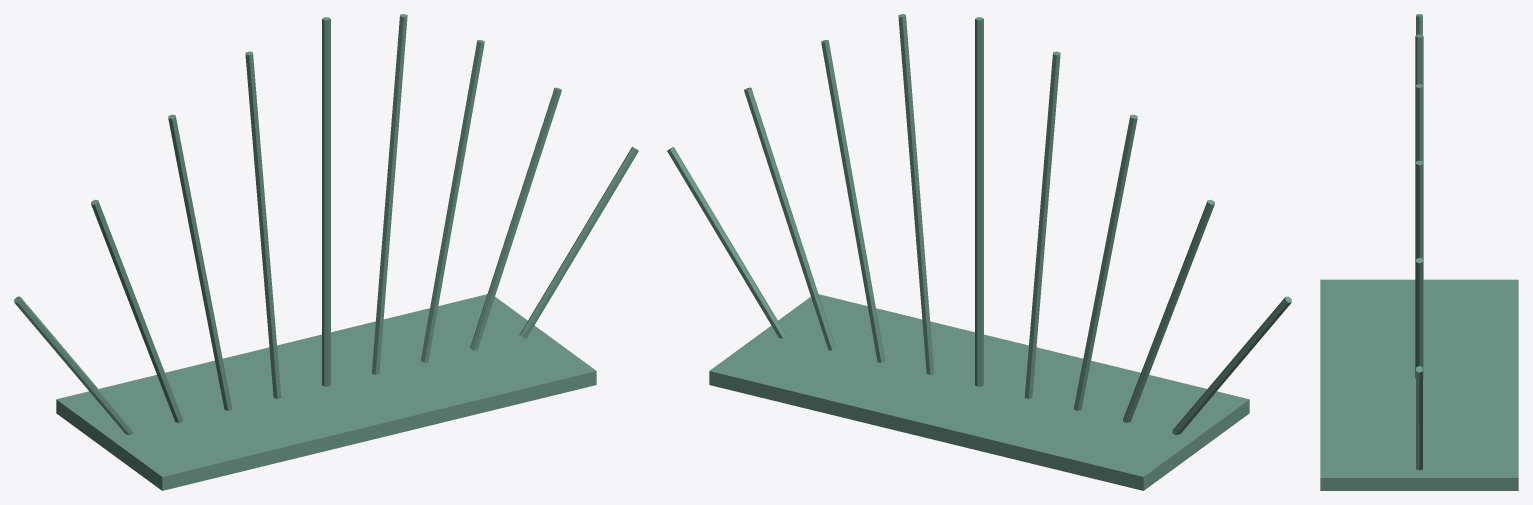
Rendered from huashan-bird-pergola-massing.glb.
3 views of the same model, side by side, from view 1: azimuth 30°, elevation 25°; view 2: azimuth 150°, elevation 25°; view 3: azimuth 270°, elevation 25° (orthographic). The views are drawn at different scales.
Visible parts, largest first — view 1: huashan-bird-pergola-green-massing; view 2: huashan-bird-pergola-green-massing; view 3: huashan-bird-pergola-green-massing.
Boxes of the visible parts, x1,y1,x2,y2 form: huashan-bird-pergola-green-massing: (14,14,638,490); huashan-bird-pergola-green-massing: (667,14,1291,490); huashan-bird-pergola-green-massing: (1320,14,1518,490).
Size of the model in its own units: 7.47 by 4.35 by 2.2.
